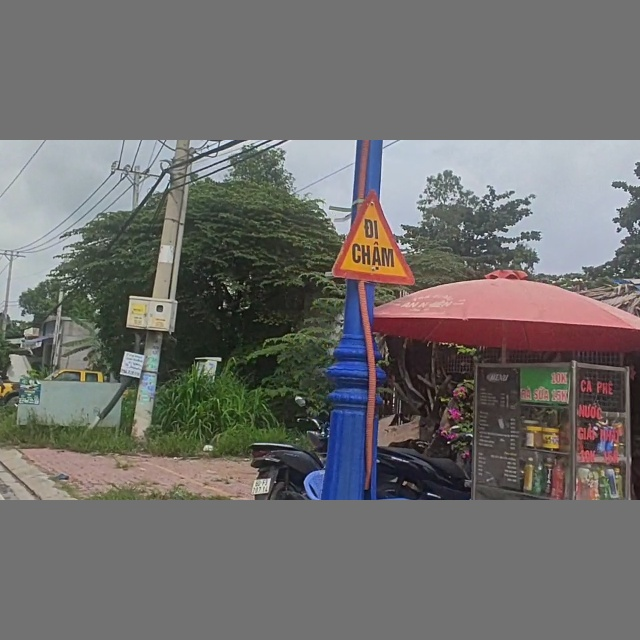W.245a: (330, 189, 417, 287)
